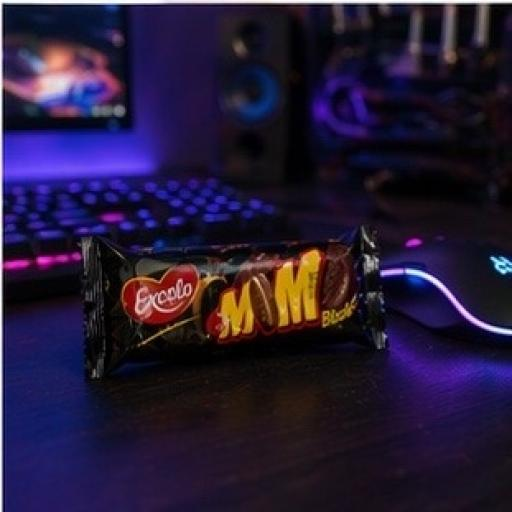MOMO: (54, 186, 442, 432)
